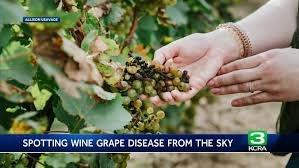Grape Rotten: (113, 54, 190, 134)
